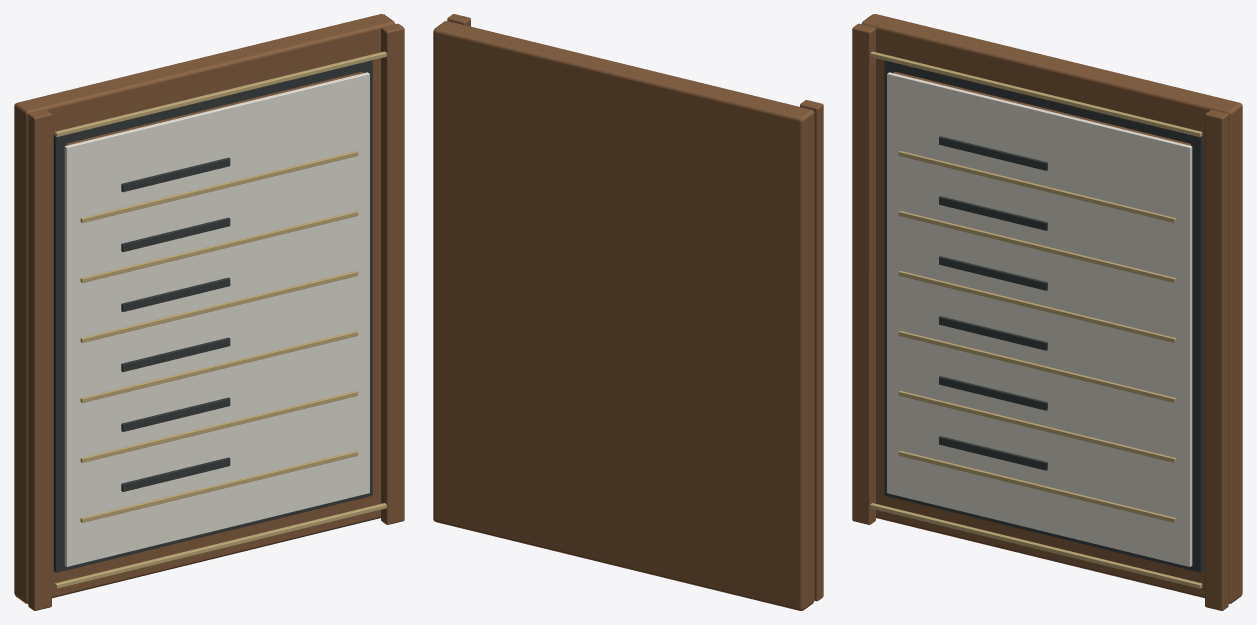
Rendered from city-courthouse-and-records-office-city-courthouse-and-9994020d__30997.glb.
3 renders of one model, left to right at view 1: azimuth 30°, elevation 25°; view 2: azimuth 150°, elevation 25°; view 3: azimuth 330°, elevation 25°, orthographic.
Parts seen in each view (by area): view 1: city-courthouse-and-records-office-hearing-list-board; view 2: city-courthouse-and-records-office-hearing-list-board; view 3: city-courthouse-and-records-office-hearing-list-board.
Boxes of the visible parts, left/top/right/bottom form: city-courthouse-and-records-office-hearing-list-board: left=14, top=14, right=404, bottom=610; city-courthouse-and-records-office-hearing-list-board: left=433, top=14, right=823, bottom=610; city-courthouse-and-records-office-hearing-list-board: left=852, top=14, right=1242, bottom=610.
Bounding box in the file's own units: 1.1 × 1.4 × 0.1219.
